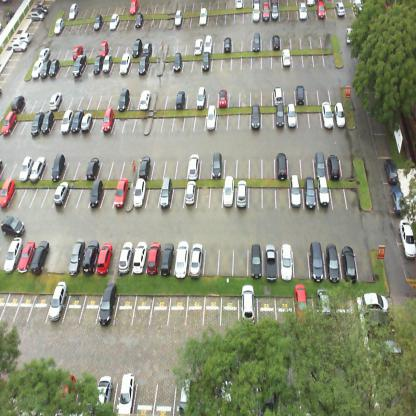car: (364, 315, 396, 341), (371, 343, 403, 369), (46, 290, 69, 326), (96, 288, 118, 324), (355, 293, 389, 316), (258, 375, 277, 415), (3, 237, 24, 271), (399, 216, 415, 260), (145, 240, 165, 275), (324, 242, 342, 280), (68, 240, 87, 274), (293, 283, 308, 324), (218, 380, 235, 415), (82, 240, 100, 273), (340, 241, 356, 278), (17, 241, 36, 272), (88, 174, 105, 208), (278, 244, 295, 278), (310, 242, 326, 278), (160, 241, 177, 274), (174, 243, 191, 276), (61, 369, 76, 406), (97, 371, 111, 410), (188, 242, 204, 276), (263, 243, 279, 277), (113, 177, 129, 210), (156, 178, 172, 211), (132, 240, 148, 273), (33, 239, 48, 274), (96, 244, 113, 274), (248, 240, 263, 274), (2, 212, 25, 234), (316, 177, 332, 208), (121, 372, 134, 410), (242, 283, 254, 324), (314, 148, 330, 178), (118, 242, 134, 272), (316, 286, 330, 320), (383, 153, 398, 184), (133, 177, 146, 212), (84, 153, 101, 179), (391, 184, 405, 215), (288, 180, 304, 207), (235, 179, 249, 209), (0, 178, 14, 208), (49, 154, 65, 180), (28, 157, 44, 183), (328, 148, 342, 177), (276, 148, 289, 179), (304, 178, 317, 209), (101, 107, 115, 135), (332, 101, 347, 127), (186, 152, 201, 178), (184, 179, 196, 210), (18, 155, 32, 181), (138, 155, 153, 179), (72, 54, 87, 78), (52, 181, 68, 203), (210, 152, 224, 177), (1, 111, 15, 136), (224, 179, 236, 208), (69, 110, 83, 134), (59, 110, 73, 134), (181, 376, 191, 409), (39, 111, 54, 133), (30, 111, 43, 136), (321, 104, 334, 126), (117, 88, 130, 110), (274, 105, 286, 128), (80, 112, 93, 133), (11, 94, 25, 113), (271, 86, 283, 108), (138, 89, 150, 111), (118, 52, 130, 74), (136, 56, 149, 76), (250, 32, 261, 55), (252, 105, 262, 130), (205, 108, 216, 130), (195, 86, 205, 110), (49, 92, 61, 112), (286, 105, 297, 126), (101, 54, 112, 75), (200, 51, 210, 74), (52, 17, 64, 36), (282, 48, 292, 70), (172, 52, 182, 74), (39, 59, 50, 79), (251, 1, 261, 23), (71, 44, 83, 62), (202, 35, 212, 56), (192, 37, 202, 58), (131, 38, 141, 59), (68, 2, 78, 23), (108, 12, 119, 31), (295, 84, 304, 107), (218, 88, 228, 108), (222, 35, 232, 55), (175, 90, 185, 110), (298, 2, 308, 22), (31, 59, 42, 77), (98, 39, 109, 57), (197, 7, 208, 25), (352, 0, 365, 15), (92, 55, 102, 74), (336, 2, 346, 21), (344, 27, 354, 46), (48, 59, 59, 76), (16, 31, 31, 43), (142, 40, 152, 58), (38, 46, 50, 61), (92, 14, 102, 32), (134, 12, 144, 30), (34, 2, 48, 14), (13, 40, 28, 51), (173, 10, 182, 28), (270, 3, 279, 21), (262, 2, 270, 22), (317, 1, 325, 21), (272, 34, 280, 53), (30, 12, 44, 22), (128, 0, 138, 12), (234, 0, 244, 11), (306, 0, 315, 7)
